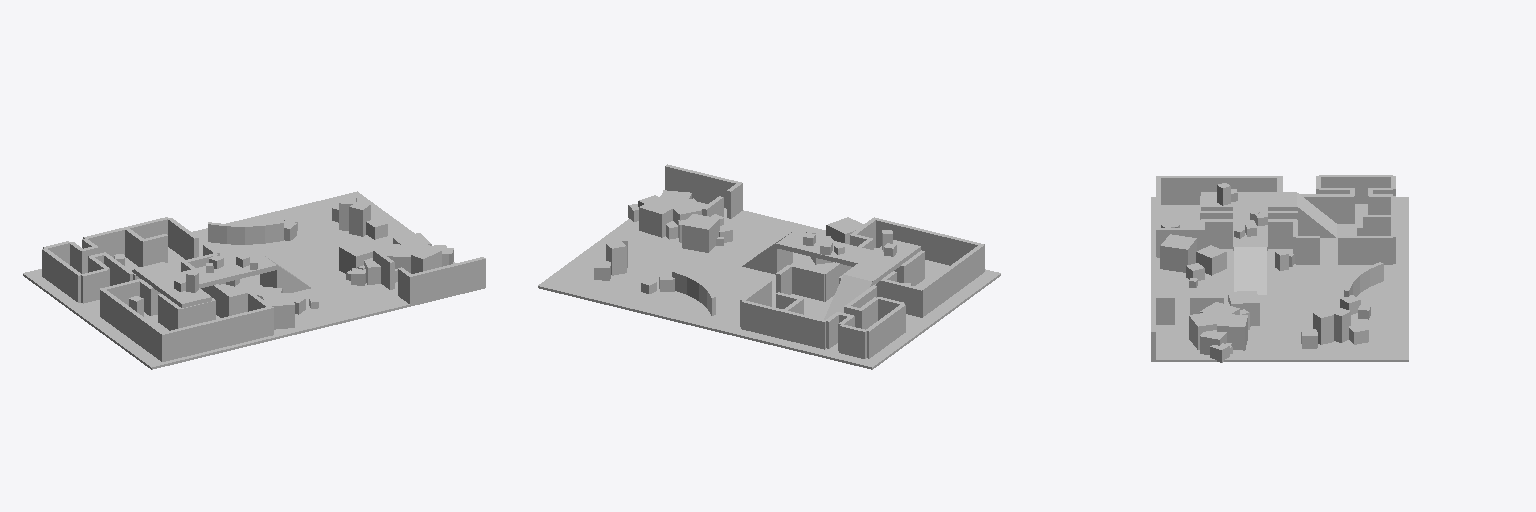
The model's file is testmapv1.obj.
The picture shows the model from 3 angles: view 1: azimuth 30°, elevation 25°; view 2: azimuth 150°, elevation 25°; view 3: azimuth 270°, elevation 25°; orthographic projection.
Parts seen in each view (by area): view 1: Cube.002, Floor; view 2: Cube.002, Floor; view 3: Cube.002, Floor.
Boxes of the visible parts, <box> form: Cube.002: <box>42,197,485,361</box>; Floor: <box>23,191,485,369</box>; Cube.002: <box>594,164,984,358</box>; Floor: <box>538,196,1000,369</box>; Cube.002: <box>1151,175,1395,362</box>; Floor: <box>1151,197,1408,361</box>.
Size of the model in its own units: 151 by 22.18 by 100.